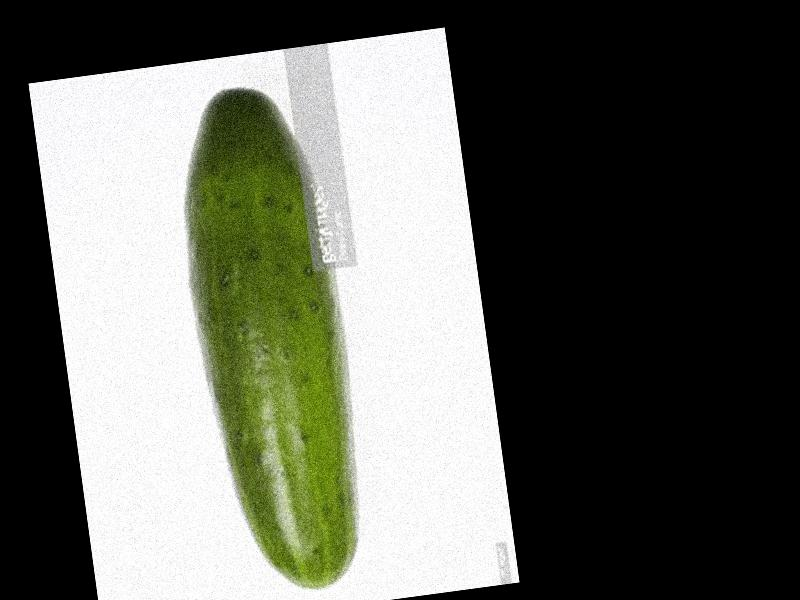Cucumber: (162, 72, 378, 600)
